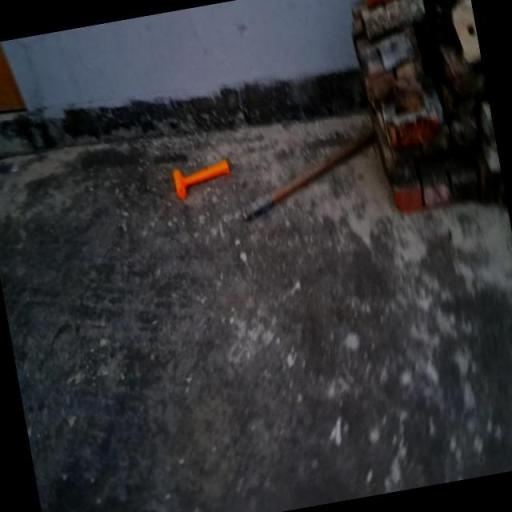mallet: (171, 158, 234, 200)
